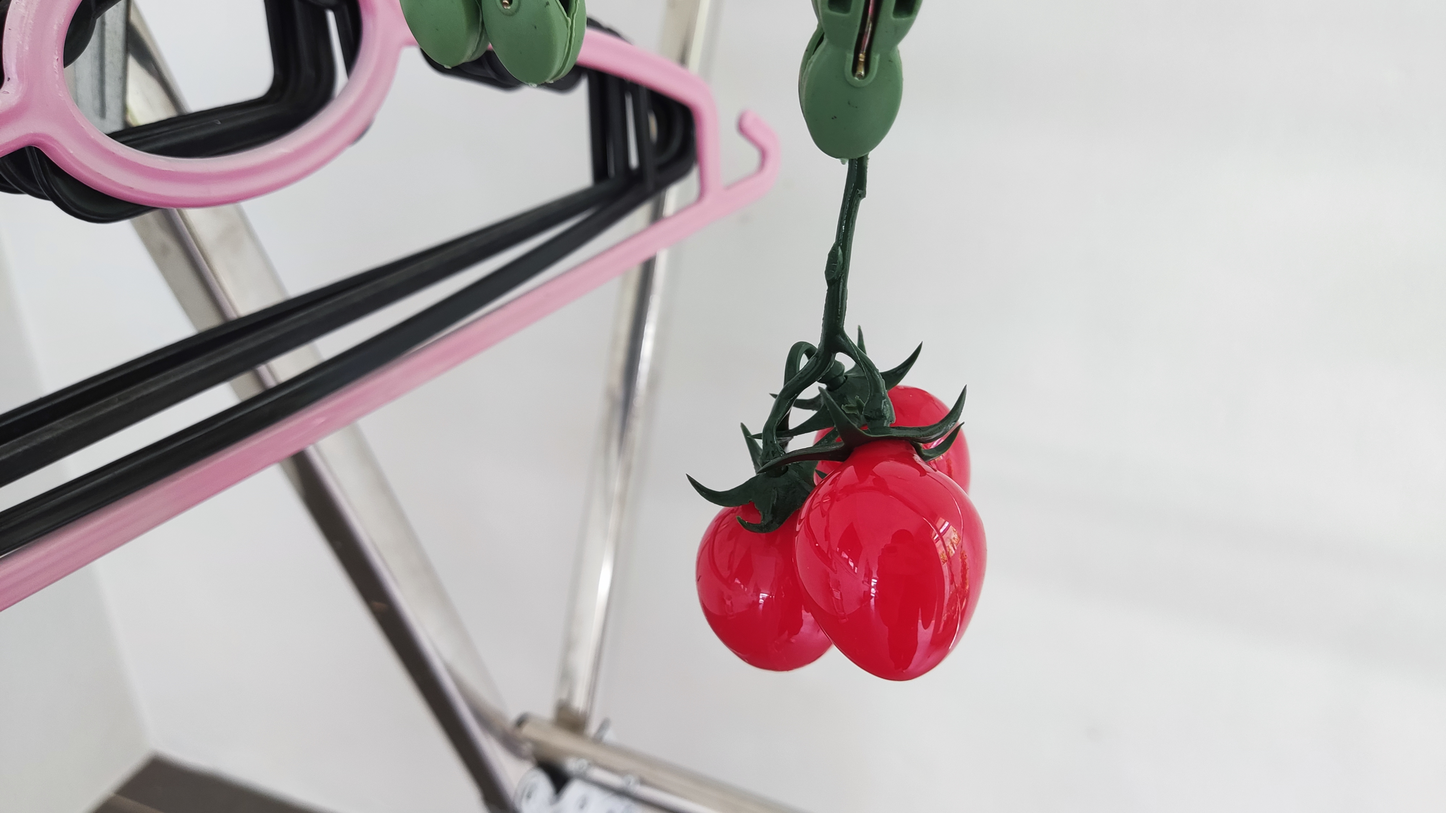peduncle: (823, 153, 869, 325)
strawberry: (795, 440, 987, 681), (696, 502, 832, 671), (929, 428, 972, 491), (889, 383, 951, 425), (820, 461, 837, 471)
